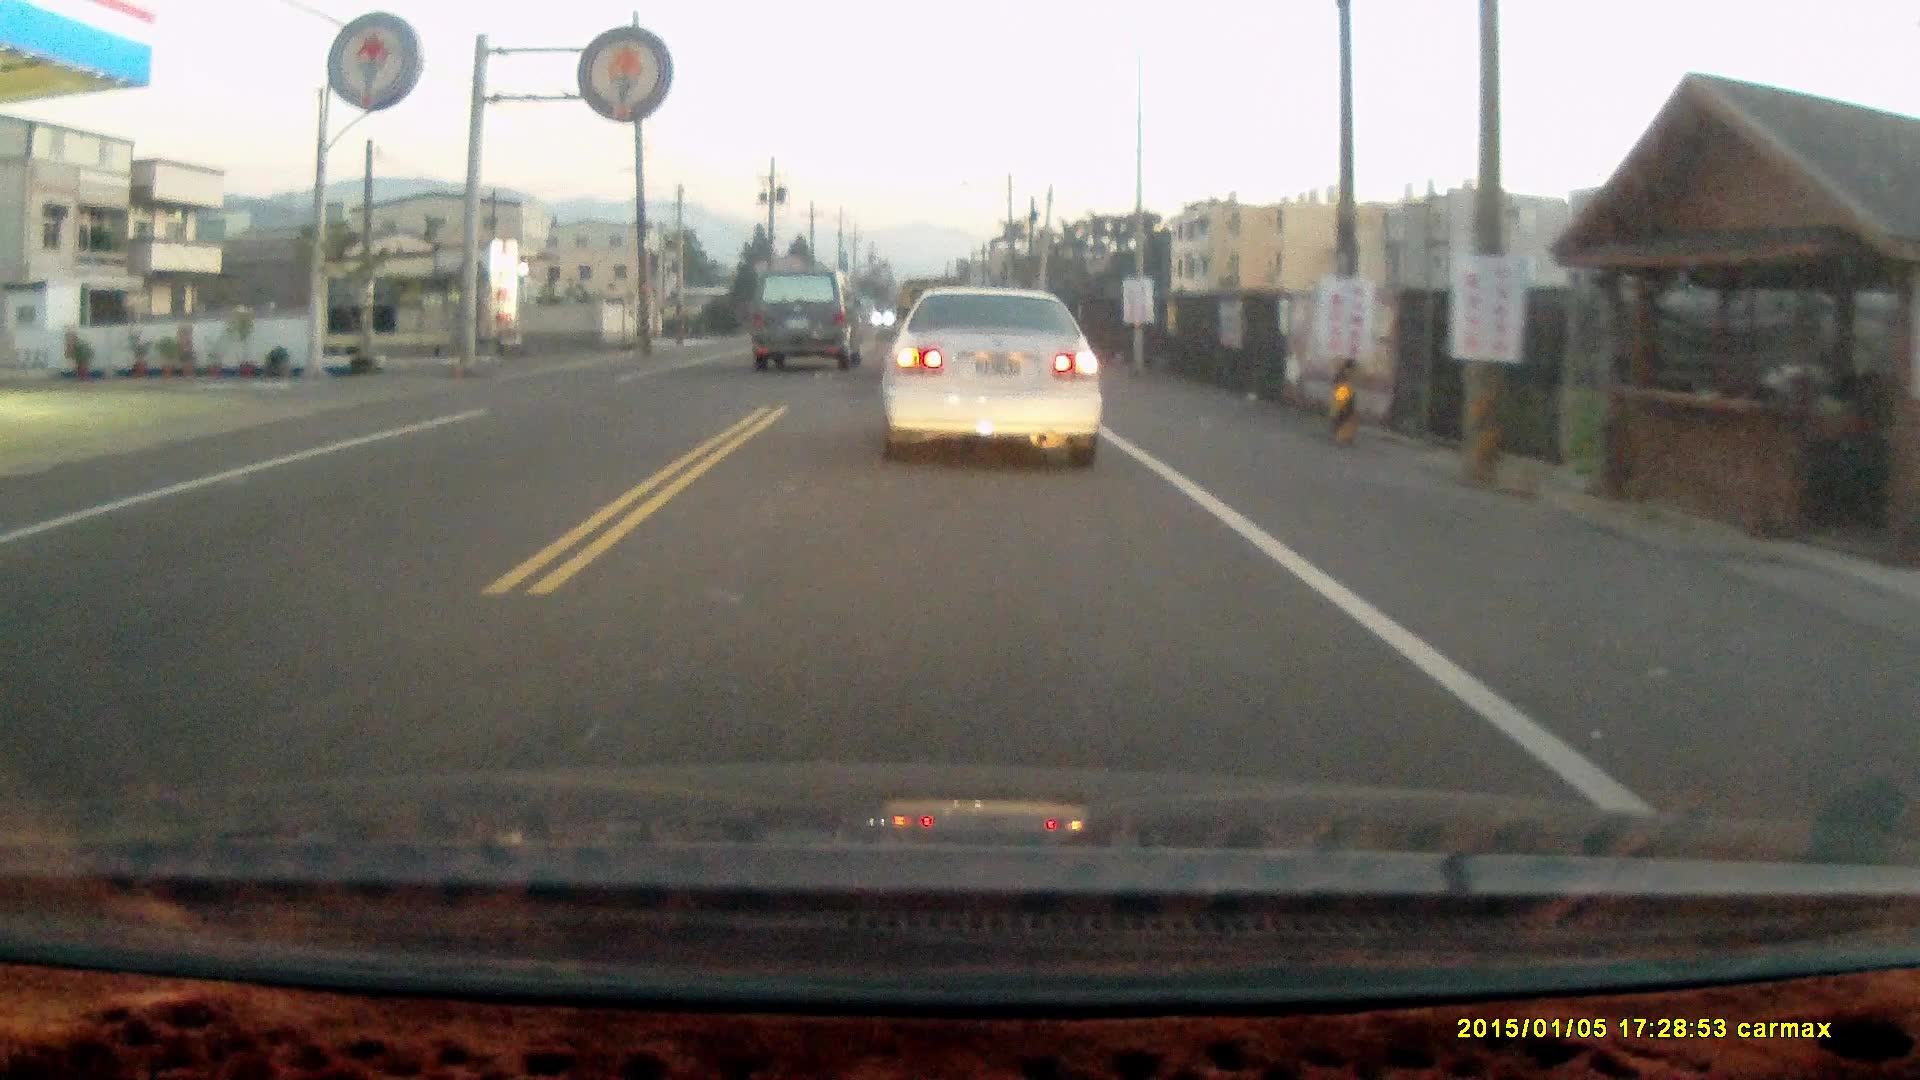pedestrian: (1782, 361, 1849, 497)
vehicle: (875, 280, 1104, 468), (743, 264, 863, 375)
